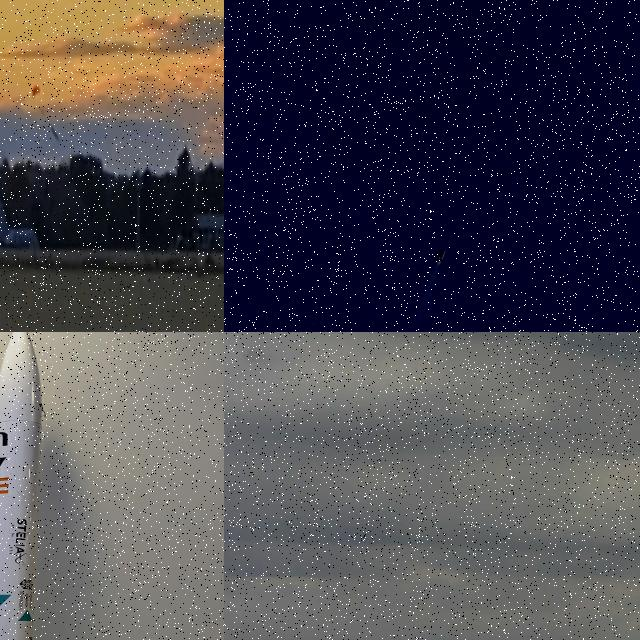Rocket: (0, 332, 43, 640), (432, 248, 446, 266), (46, 180, 49, 193)
